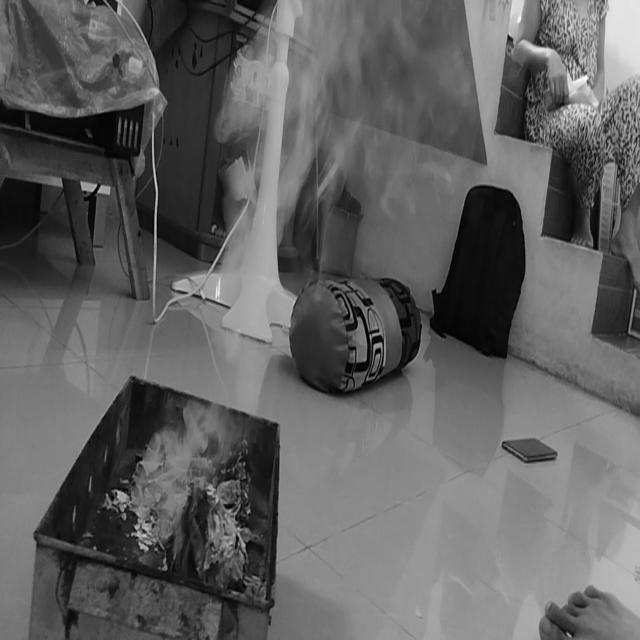fire: (290, 9, 453, 203), (204, 70, 287, 436)
